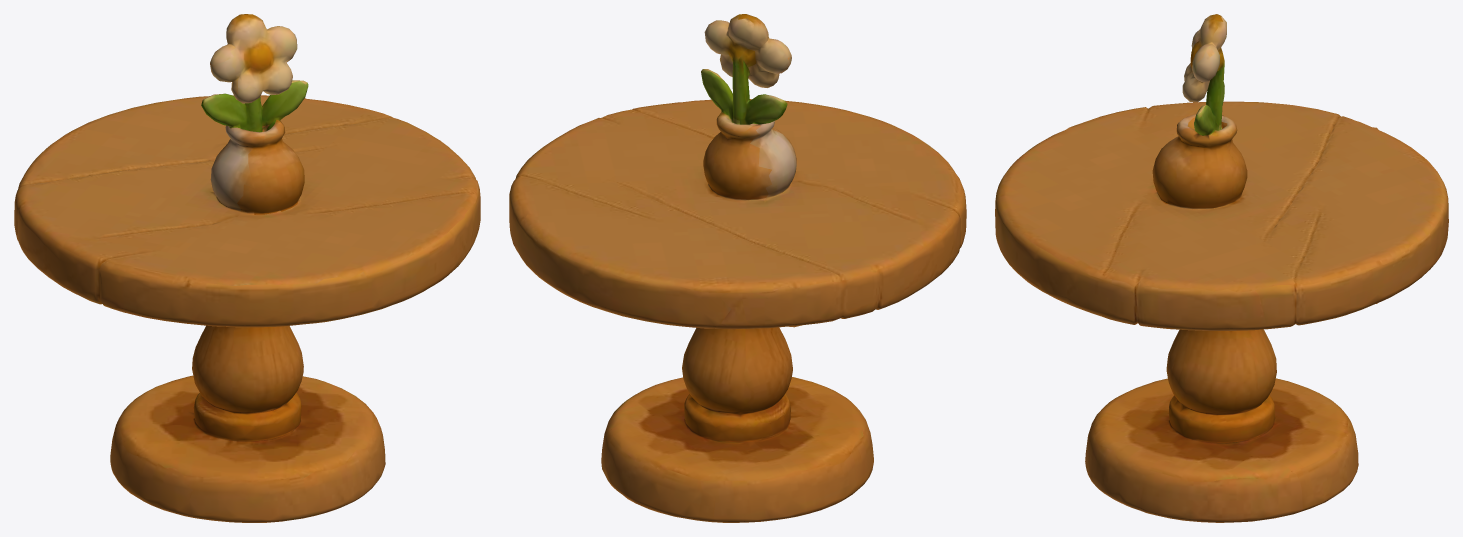
File: table_basic.glb
3 views of the same model, side by side, from view 1: azimuth 30°, elevation 25°; view 2: azimuth 150°, elevation 25°; view 3: azimuth 270°, elevation 25° (orthographic).
Visible parts, largest first — view 1: textured_mesh.obj; view 2: textured_mesh.obj; view 3: textured_mesh.obj.
Boxes of the visible parts, box(x1,y1,x2,y2) form: textured_mesh.obj: box(14, 14, 480, 522); textured_mesh.obj: box(509, 14, 966, 522); textured_mesh.obj: box(995, 14, 1448, 522).
Size of what is drawn, in the model's own units: 0.6862 by 0.75 by 0.6864.
Materials: 1 (1 with a texture image).
